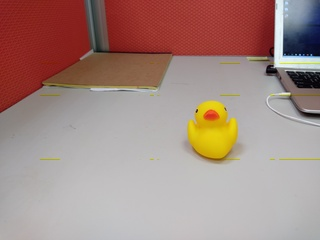duck: (183, 100, 242, 162)
